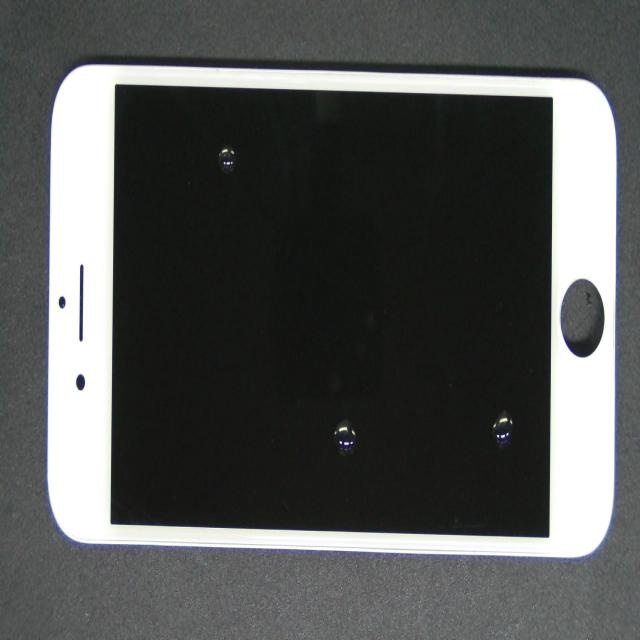oil: (271, 209, 640, 608), (183, 209, 508, 628), (122, 62, 329, 206)
